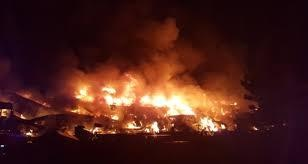fire: (67, 76, 230, 135)
